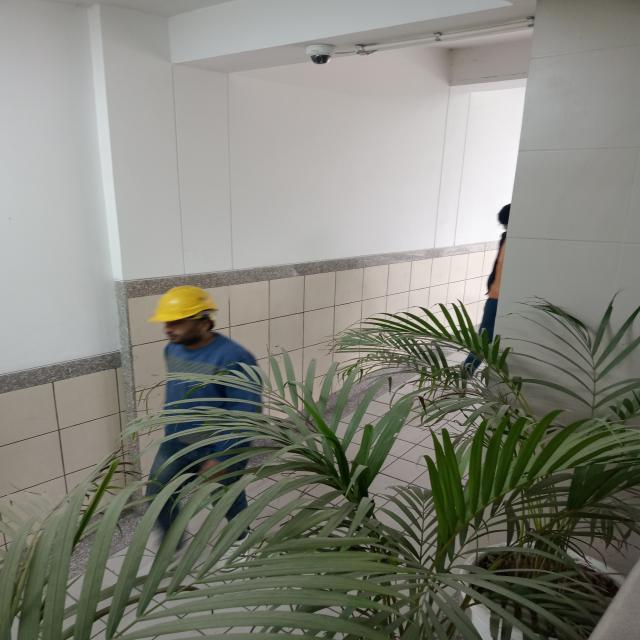no jacket: (137, 282, 255, 514)
